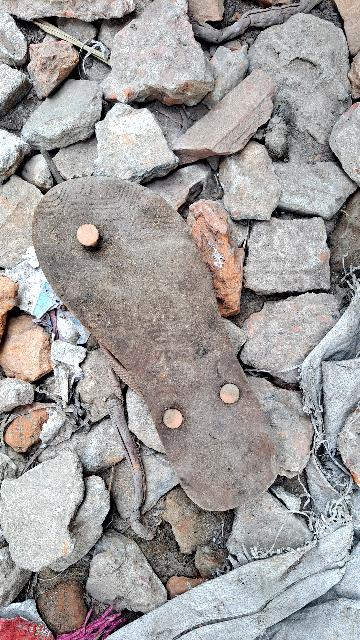sandal: (28, 169, 296, 538)
